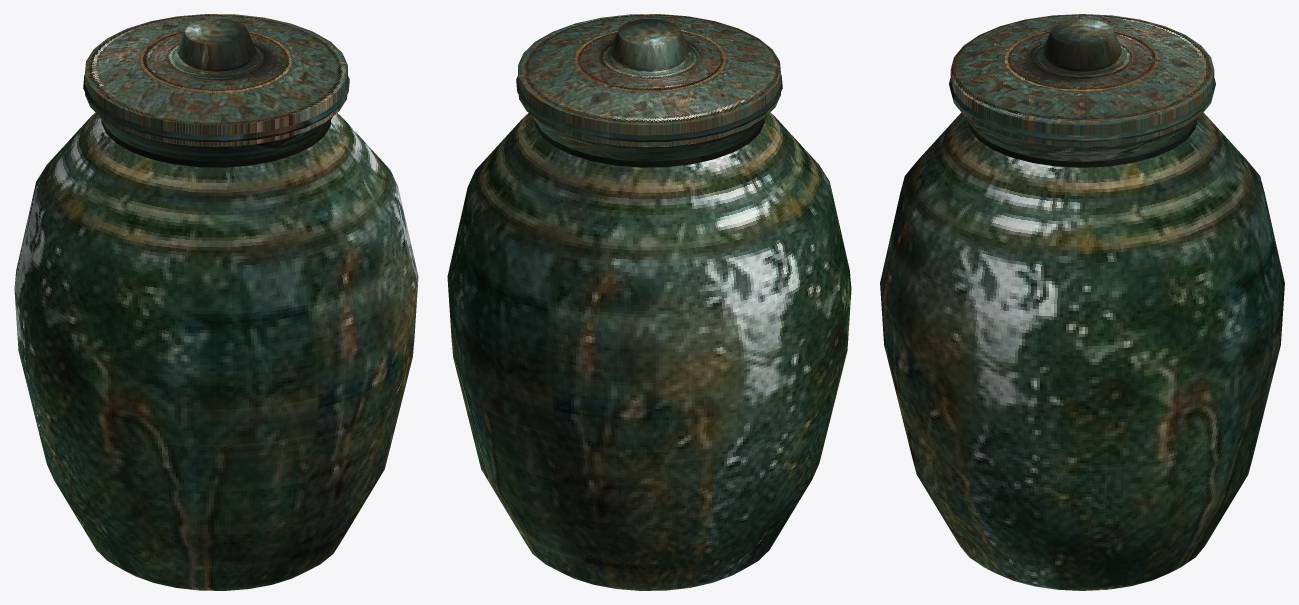
Rendered from jar_glazed.glb.
The picture shows the model from 3 angles, left to right: view 1: azimuth 30°, elevation 25°; view 2: azimuth 150°, elevation 25°; view 3: azimuth 270°, elevation 25°; orthographic projection.
Visible parts, largest first — view 1: body, piece_07, piece_12, piece_11, piece_06, piece_01, piece_08, piece_05, piece_09, piece_02, piece_10, piece_13; view 2: body, piece_11, piece_10, piece_04, piece_05, piece_09, piece_07, piece_03, piece_08, piece_12, piece_13; view 3: body, piece_09, piece_08, piece_02, piece_07, piece_03, piece_11, piece_10, piece_01, piece_04, piece_12, piece_13.
Part boxes in pixels (x1=…): body: x1=14, y1=74, x2=418, y2=590; piece_07: x1=199, y1=27, x2=394, y2=376; piece_12: x1=82, y1=73, x2=234, y2=378; piece_11: x1=17, y1=24, x2=198, y2=358; piece_06: x1=83, y1=364, x2=246, y2=590; piece_01: x1=235, y1=325, x2=395, y2=589; piece_08: x1=255, y1=32, x2=404, y2=317; piece_05: x1=17, y1=309, x2=120, y2=563; piece_09: x1=184, y1=14, x2=312, y2=46; piece_02: x1=317, y1=281, x2=418, y2=565; piece_10: x1=110, y1=16, x2=187, y2=40; piece_13: x1=191, y1=19, x2=244, y2=72; body: x1=447, y1=74, x2=851, y2=590; piece_11: x1=630, y1=35, x2=835, y2=381; piece_10: x1=486, y1=74, x2=657, y2=381; piece_04: x1=486, y1=342, x2=673, y2=590; piece_05: x1=658, y1=334, x2=844, y2=583; piece_09: x1=447, y1=24, x2=630, y2=340; piece_07: x1=623, y1=14, x2=765, y2=54; piece_03: x1=448, y1=286, x2=529, y2=548; piece_08: x1=474, y1=15, x2=624, y2=173; piece_12: x1=692, y1=44, x2=833, y2=235; piece_13: x1=625, y1=24, x2=691, y2=73; body: x1=880, y1=78, x2=1284, y2=590; piece_09: x1=1077, y1=36, x2=1266, y2=366; piece_08: x1=914, y1=45, x2=1143, y2=370; piece_02: x1=914, y1=334, x2=1145, y2=589; piece_07: x1=880, y1=23, x2=1076, y2=331; piece_03: x1=1129, y1=327, x2=1266, y2=586; piece_11: x1=1030, y1=14, x2=1202, y2=55; piece_10: x1=1127, y1=47, x2=1284, y2=325; piece_01: x1=880, y1=290, x2=957, y2=541; piece_04: x1=1195, y1=295, x2=1284, y2=557; piece_12: x1=973, y1=19, x2=1049, y2=41; piece_13: x1=1060, y1=19, x2=1125, y2=56.
Bounding box in the file's own units: 0.48 × 0.6692 × 0.48.
1 material, 1 textured.
